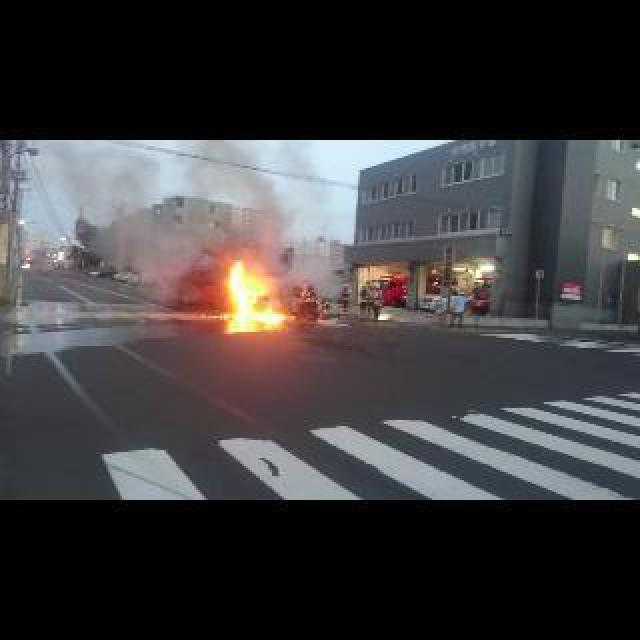Fire: (200, 260, 288, 320)
Smoke: (58, 140, 226, 294), (222, 140, 316, 268)
